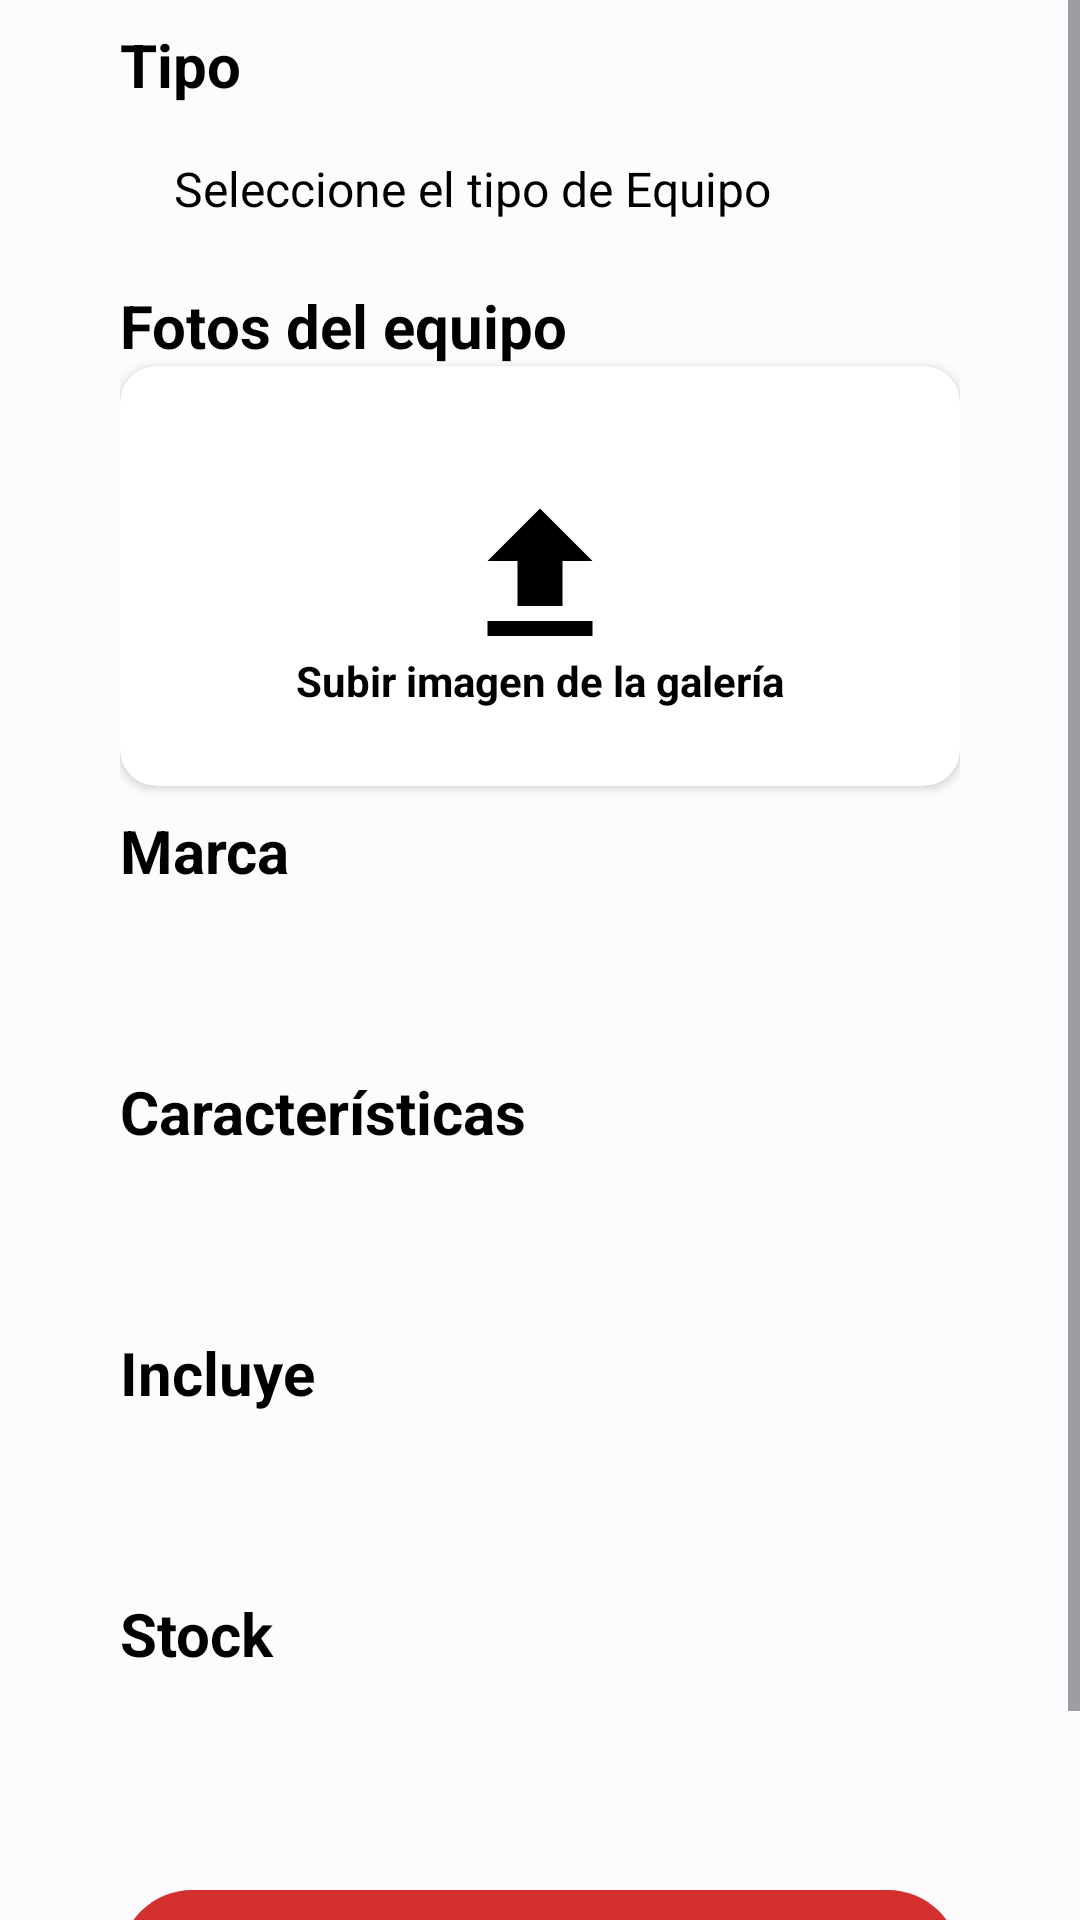

Icon bounding boxes for this 1080px×1920px phone screenshot, format (x1, y1, x2, y2):
upload: (487, 508, 593, 636)
